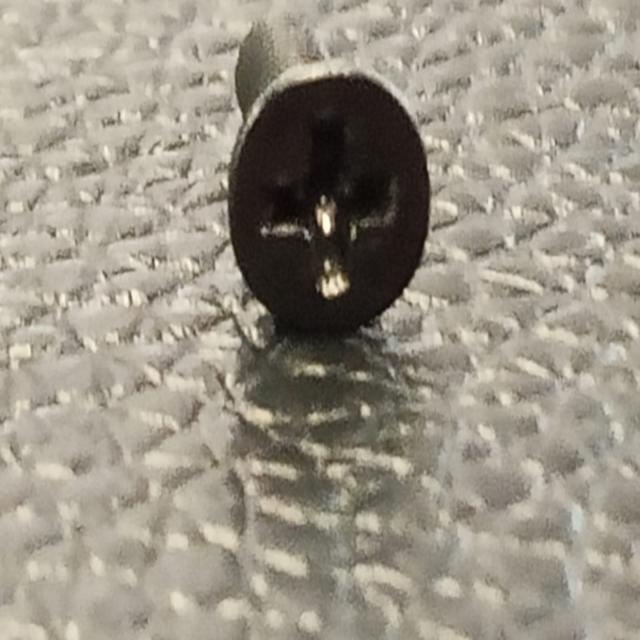phillips: (226, 58, 432, 342)
